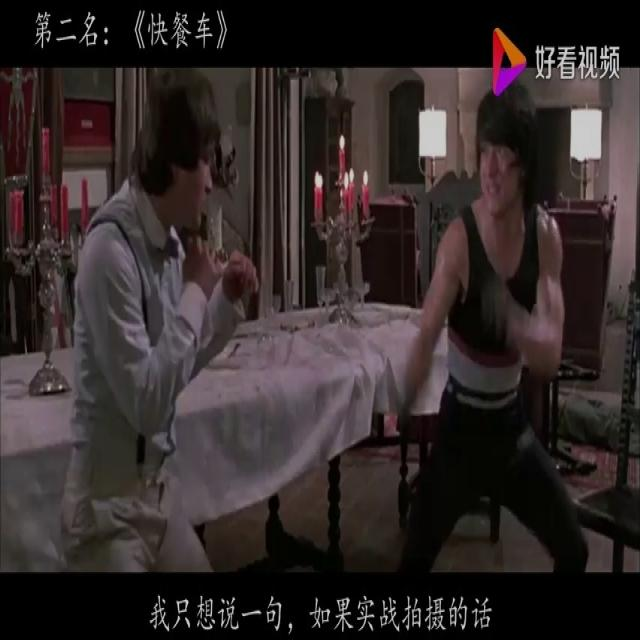fight: (74, 86, 590, 566)
